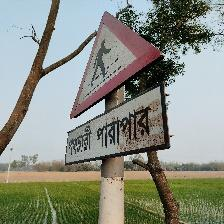Pedestrian-crossing: (65, 11, 170, 166)
